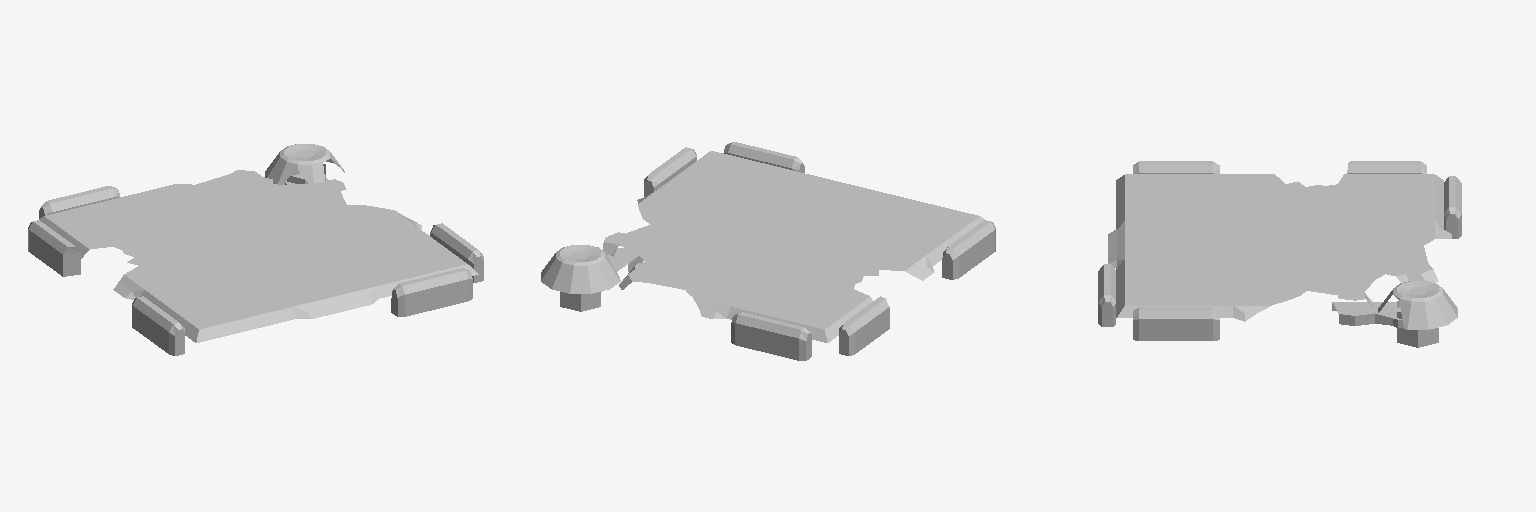
The model's file is ModelComponentBroken.obj.
The picture shows the model from 3 angles: view 1: azimuth 30°, elevation 25°; view 2: azimuth 150°, elevation 25°; view 3: azimuth 270°, elevation 25°; orthographic projection.
Visible parts, largest first — view 1: ModelComponent; view 2: ModelComponent; view 3: ModelComponent.
Boxes of the visible parts, box(x1,y1,x2,y2) form: ModelComponent: box(28, 144, 483, 355); ModelComponent: box(541, 142, 995, 360); ModelComponent: box(1098, 161, 1461, 347).
Size of the model in its own units: 2 by 0.2933 by 2.